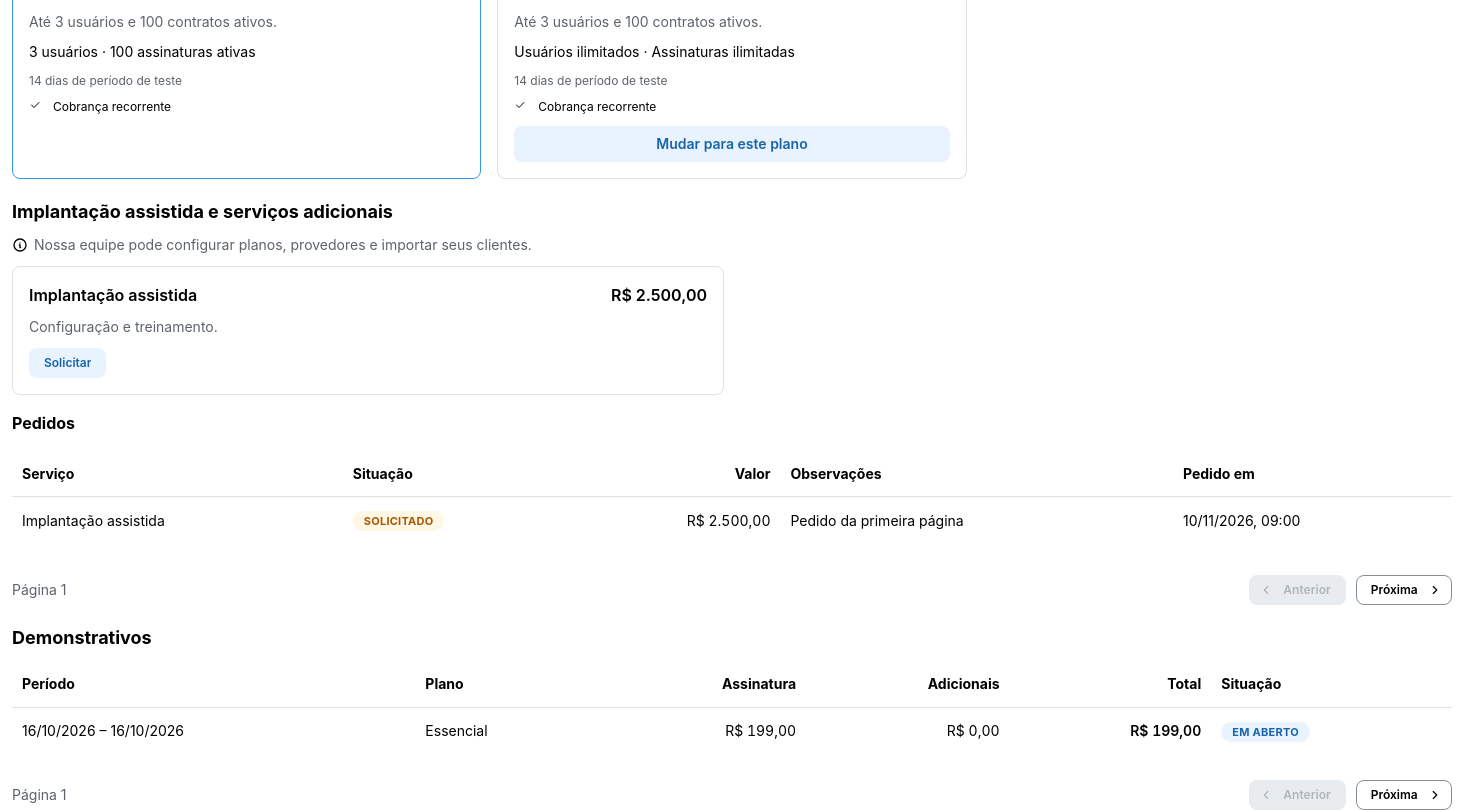
it: plano Recorvia › pedidos e demonstrativos seguem para a página seguinte pelo cursor
The image size is (1464, 810).
(page scrolled)
Check: the text "Pedido da primeira página" is shown, box [780,497,1173,543]
Check: the table named "Demonstrativos do Recorvia" shows "16/10/2026", box [22,722,96,739]
Click the button "Próxima" below "10/11/2026, 09:00" at x=1404, y=590, box [1356,575,1452,605]
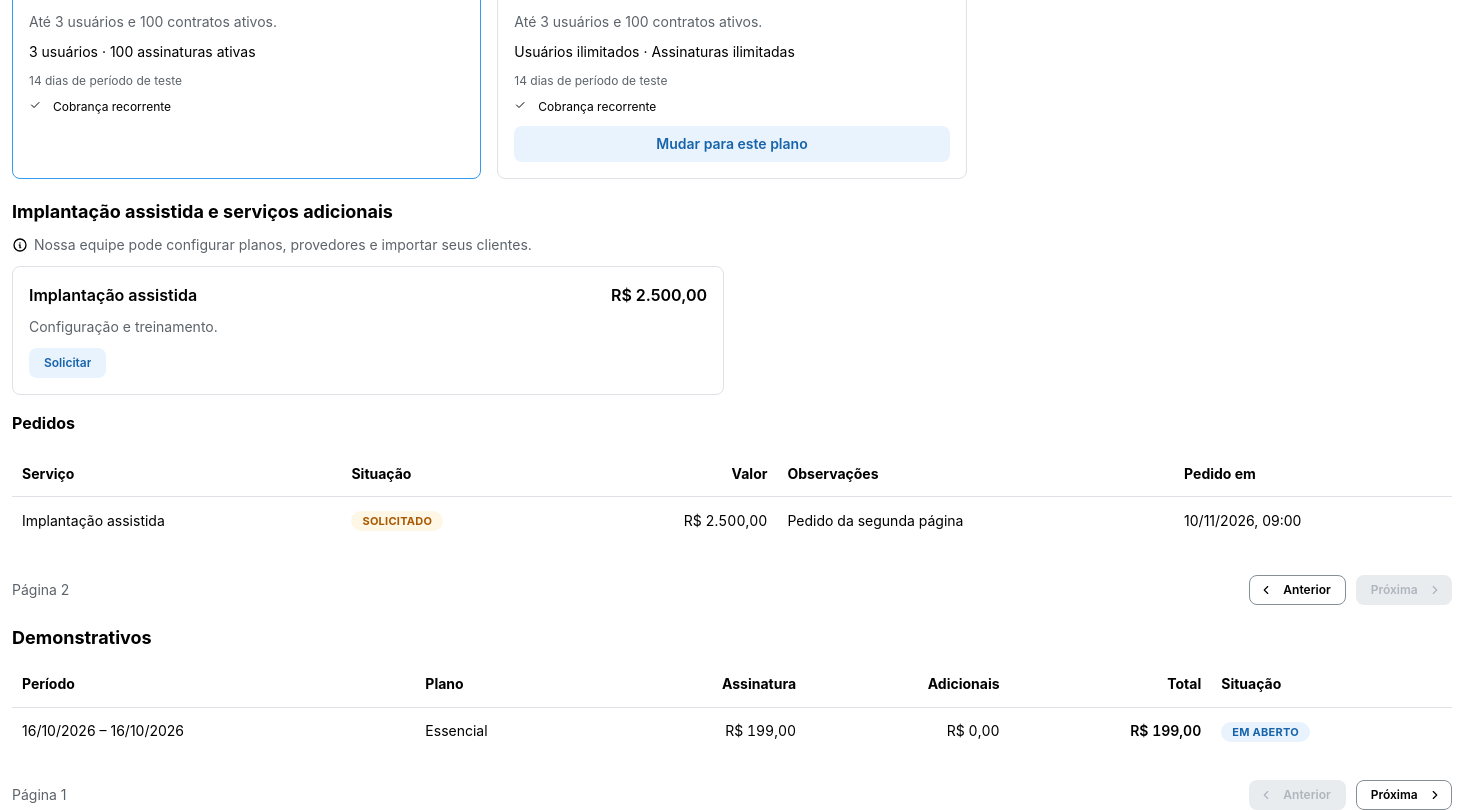
Check: the text "Pedido da segunda página" is shown, box [777,497,1174,543]
Click the button "Próxima" below "Em aberto" at x=1404, y=795, box [1356,780,1452,809]
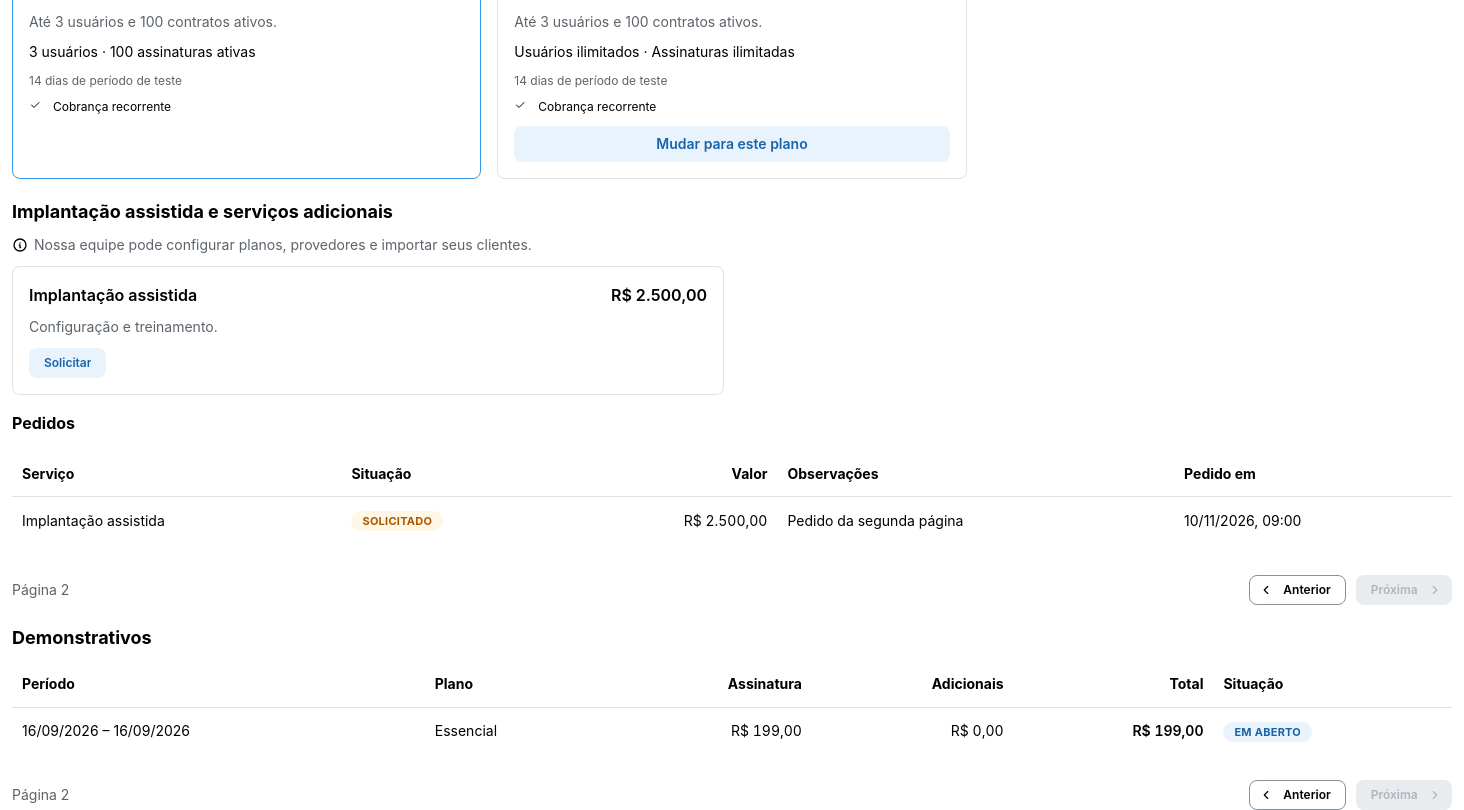
Check: the table named "Demonstrativos do Recorvia" shows "16/09/2026", box [22,722,99,739]
